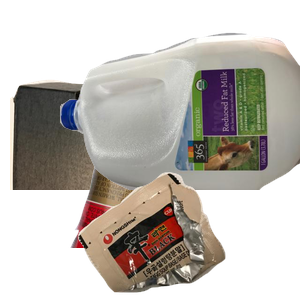cardboard: (10, 77, 245, 257)
glass: (68, 120, 255, 300)
plastic: (60, 30, 300, 210)
trash: (76, 170, 300, 300)
